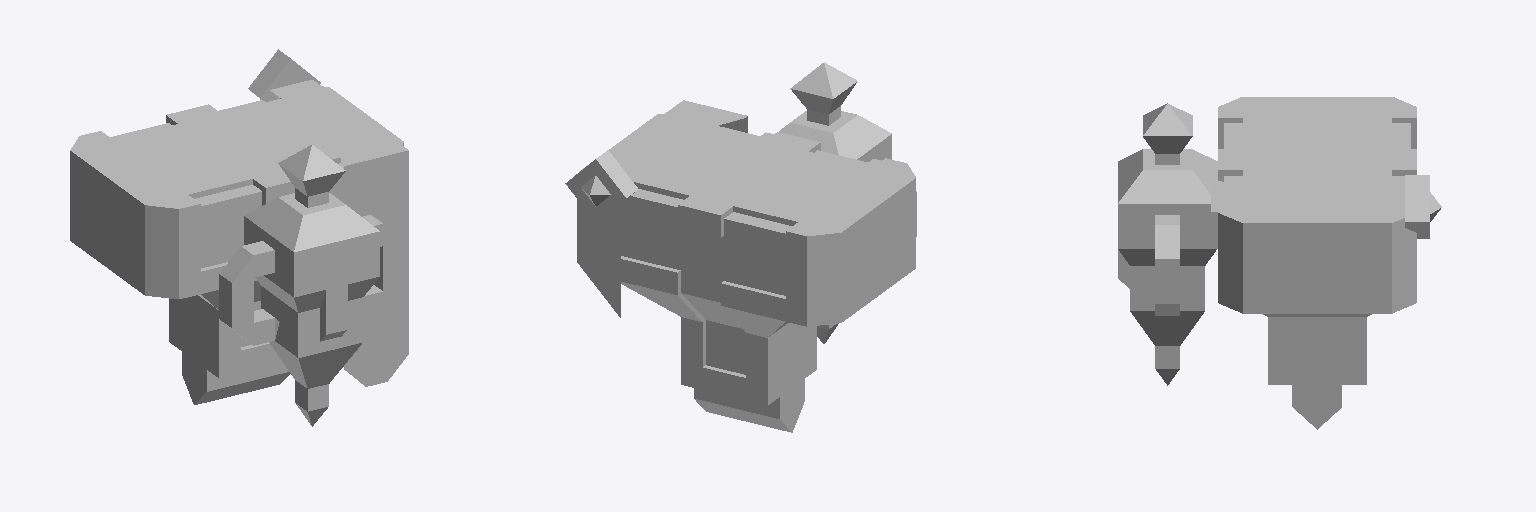
File: torso_mana.obj
3 views of the same model, side by side, from view 1: azimuth 30°, elevation 25°; view 2: azimuth 150°, elevation 25°; view 3: azimuth 270°, elevation 25° (orthographic).
Visible parts, largest first — view 1: TORSO_MANA_Cube.061, TORSO_DECO_GOLD_MANA_Cube.216; view 2: TORSO_MANA_Cube.061, TORSO_DECO_GOLD_MANA_Cube.216; view 3: TORSO_MANA_Cube.061, TORSO_DECO_GOLD_MANA_Cube.216.
Boxes of the visible parts, <box> form: TORSO_MANA_Cube.061: <box>70,86,404,426</box>; TORSO_DECO_GOLD_MANA_Cube.216: <box>248,49,408,386</box>; TORSO_MANA_Cube.061: <box>582,62,916,432</box>; TORSO_DECO_GOLD_MANA_Cube.216: <box>565,100,747,317</box>; TORSO_MANA_Cube.061: <box>1118,97,1416,429</box>; TORSO_DECO_GOLD_MANA_Cube.216: <box>1211,175,1441,238</box>.
Bounding box in the file's own units: 0.75 × 0.8438 × 0.8125.